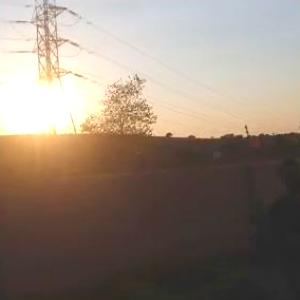follow: (263, 154, 299, 299)
